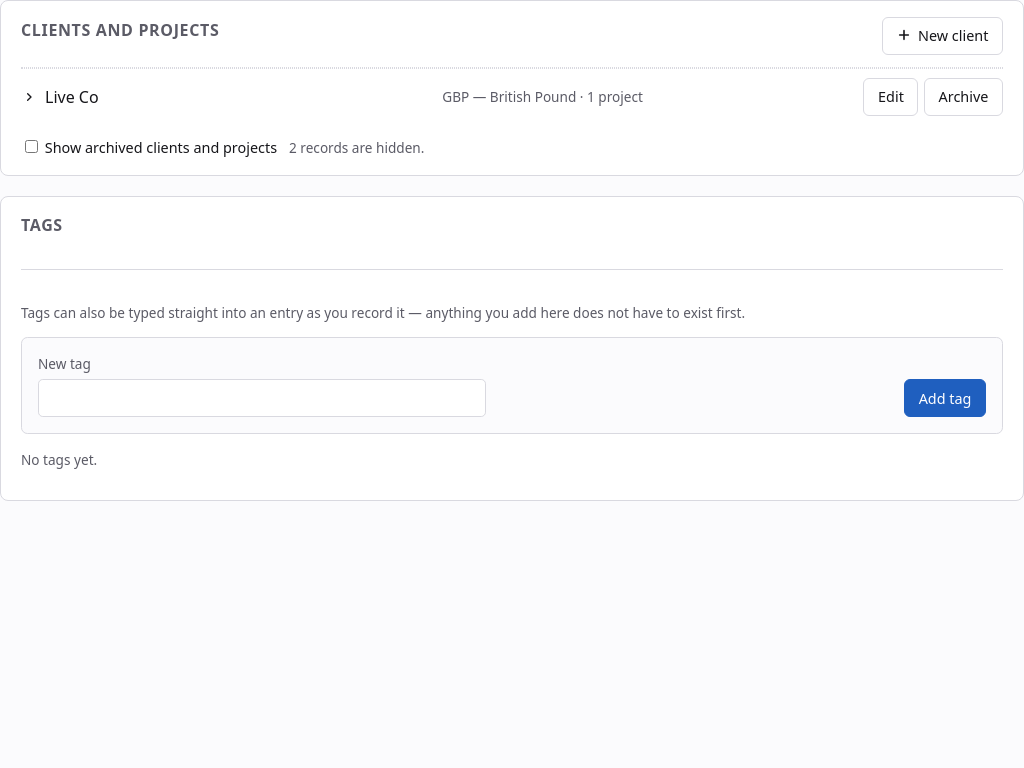
Test: the one archived control › reveals archived clients and archived projects together
Expected: the text "Gone Co" is not shown
Click the checkbox labelled "Show archived clients and projects" at (32, 146), box [25,140,38,153]
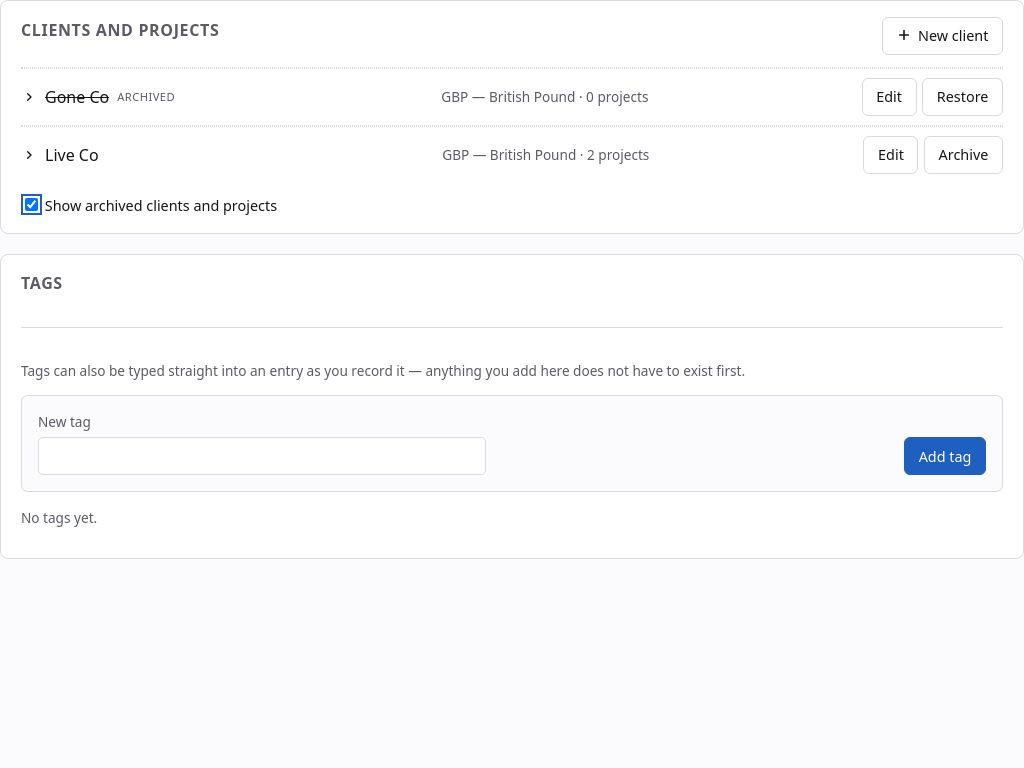
Now the text "Gone Co" is shown, box [45,85,109,109]
